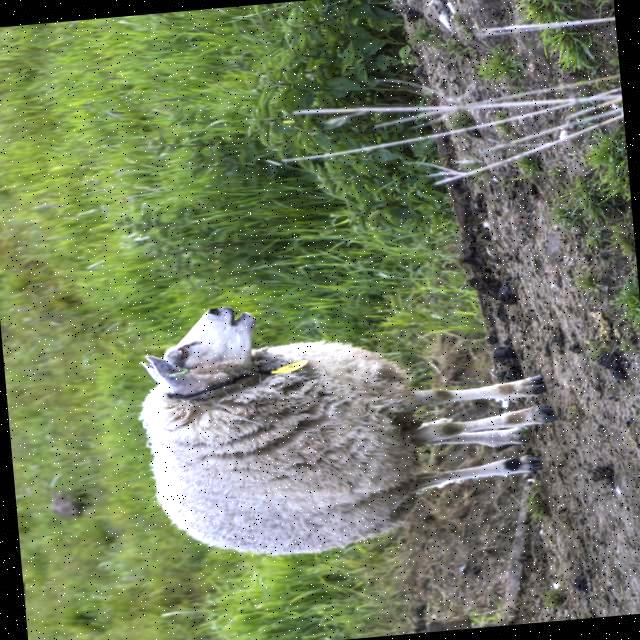sheep: (139, 307, 541, 555)
